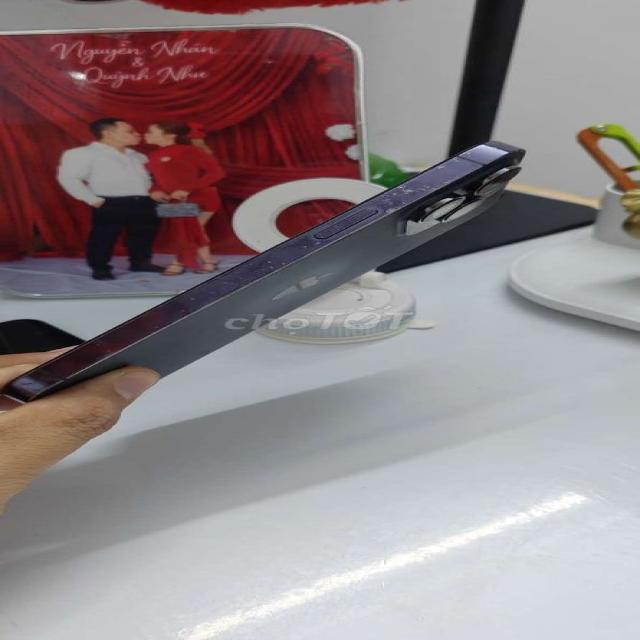scratch: (334, 149, 512, 224), (216, 228, 338, 300), (127, 291, 209, 342)
